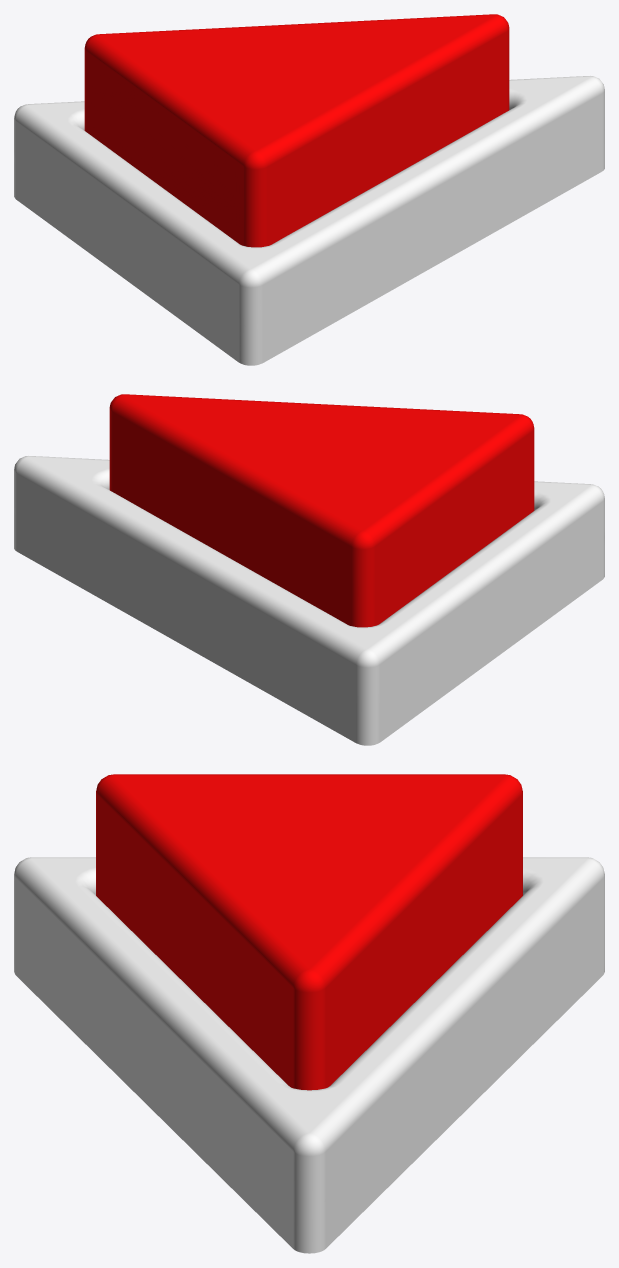
Rendered from PlayButton.fbx.
The picture shows the model from 3 angles, top to bottom: view 1: azimuth 30°, elevation 25°; view 2: azimuth 150°, elevation 25°; view 3: azimuth 270°, elevation 25°; orthographic projection. The views are drawn at different scales.
Visible parts, largest first — view 1: Object_1, Object_2; view 2: Object_1, Object_2; view 3: Object_2, Object_1.
Boxes of the visible parts, <box> form: Object_1: <box>14,76,604,365</box>; Object_2: <box>84,14,509,247</box>; Object_1: <box>14,456,604,745</box>; Object_2: <box>109,394,534,627</box>; Object_2: <box>96,774,522,1090</box>; Object_1: <box>14,857,604,1253</box>.
Bounding box in the file's own units: 0.0425 × 0.0367 × 0.015.
